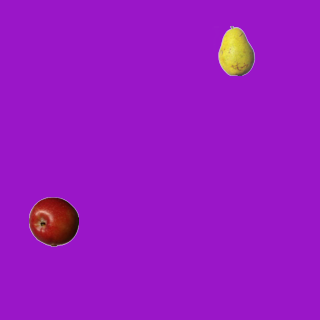Apple Braeburn: (28, 196, 78, 246)
Pear Monster: (211, 25, 261, 75)
